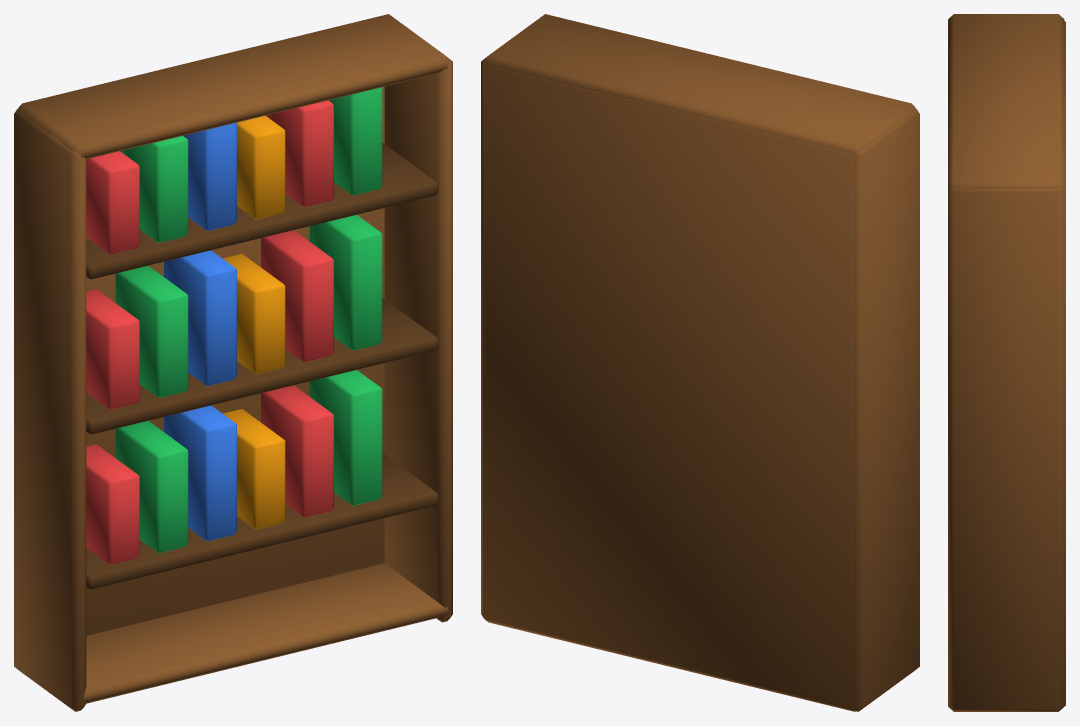
File: shelf.glb
The picture shows the model from 3 angles, left to right: view 1: azimuth 30°, elevation 25°; view 2: azimuth 150°, elevation 25°; view 3: azimuth 270°, elevation 25°; orthographic projection. The views are drawn at different scales.
Parts seen in each view (by area): view 1: SideL, SideR, Roof, Floor, Back, Shelf.002, Shelf, Shelf.001, Book.011, Book.005, Book.002, Book.008 (+14 smaller); view 2: Back, SideL, Roof, SideR; view 3: SideR, Roof, Back.
Boxes of the visible parts, x1,y1,x2,y2 form: SideL: (14, 107, 86, 711); SideR: (384, 58, 452, 622); Roof: (17, 14, 448, 159); Floor: (81, 563, 447, 703); Back: (86, 86, 384, 635); Shelf.002: (86, 143, 438, 279); Shelf: (86, 453, 438, 589); Shelf.001: (86, 298, 438, 434); Book.011: (309, 215, 382, 350); Book.005: (309, 370, 382, 505); Book.002: (164, 405, 236, 541); Book.008: (164, 250, 236, 386); Back: (484, 64, 855, 711); SideL: (854, 107, 919, 711); Roof: (484, 14, 915, 153); SideR: (481, 59, 486, 621); SideR: (948, 185, 1064, 711); Roof: (948, 14, 1064, 188); Back: (1062, 21, 1065, 708).
Size of the model in its own units: 1.42 by 2.01 by 0.405.
